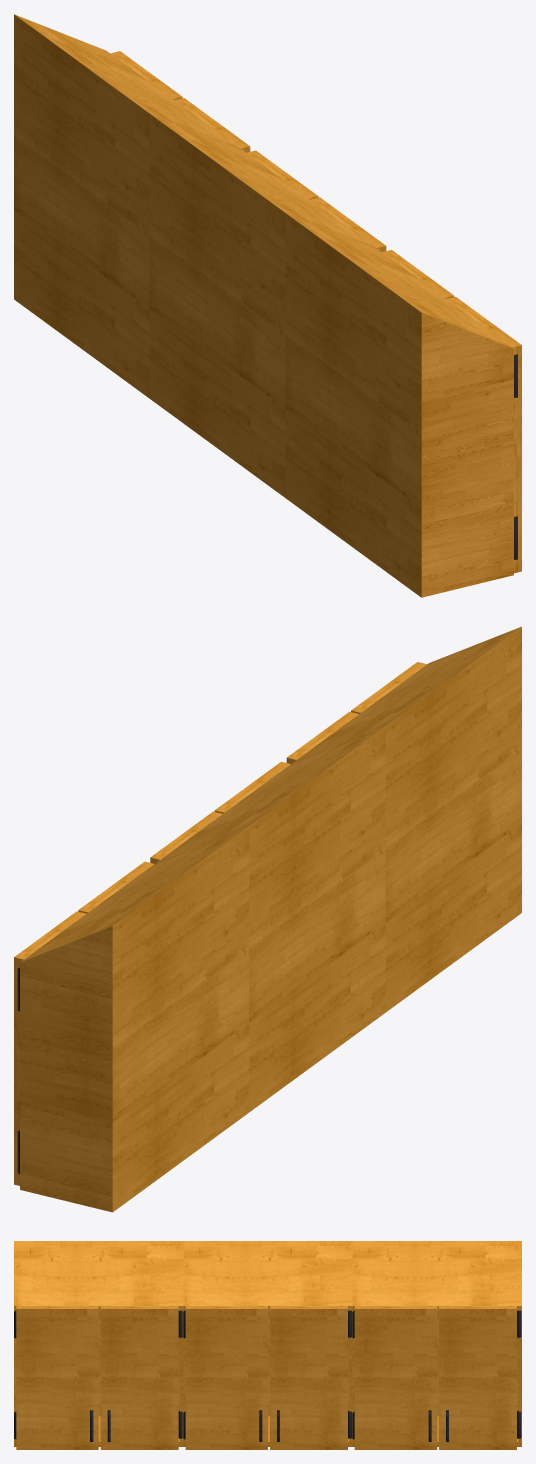
Rendered from supply_cabinets_1.fbx.
The picture shows the model from 3 angles, top to bottom: view 1: azimuth 30°, elevation 25°; view 2: azimuth 150°, elevation 25°; view 3: azimuth 270°, elevation 25°; orthographic projection. The views are drawn at different scales.
Visible parts, largest first — view 1: cabinet, cabinet1, cabinet2, leftdoor, leftdoor1, leftdoor2, rightdoor1, rightdoor, rightdoor2; view 2: cabinet2, cabinet, cabinet1, rightdoor2, leftdoor1, leftdoor2, leftdoor, rightdoor1, rightdoor; view 3: cabinet, cabinet2, cabinet1, leftdoor2, leftdoor1, leftdoor, rightdoor, rightdoor1, rightdoor2.
Part boxes in pixels (x1,y1,x2,y2): cabinet: (285, 213, 513, 597); cabinet1: (149, 114, 377, 497); cabinet2: (14, 14, 241, 398); leftdoor: (446, 297, 521, 573); leftdoor1: (310, 197, 386, 251); leftdoor2: (174, 98, 250, 152); rightdoor1: (246, 150, 318, 199); rightdoor: (382, 250, 454, 298); rightdoor2: (110, 51, 182, 100); cabinet2: (20, 826, 249, 1212); cabinet: (293, 626, 521, 1012); cabinet1: (157, 726, 385, 1111); rightdoor2: (14, 911, 86, 1185); leftdoor1: (214, 761, 290, 813); leftdoor2: (78, 861, 154, 913); leftdoor: (351, 662, 426, 713); rightdoor1: (150, 811, 222, 863); rightdoor: (286, 711, 358, 763); cabinet: (14, 1241, 183, 1446); cabinet2: (352, 1241, 521, 1446); cabinet1: (183, 1241, 352, 1446); leftdoor2: (354, 1306, 437, 1449); leftdoor1: (185, 1306, 267, 1449); leftdoor: (16, 1306, 98, 1449); rightdoor: (100, 1306, 178, 1449); rightdoor1: (270, 1306, 347, 1449); rightdoor2: (439, 1306, 516, 1449).
Size of the model in its own units: 0.8942 by 2.17 by 5.62.
2 materials, 1 textured.
